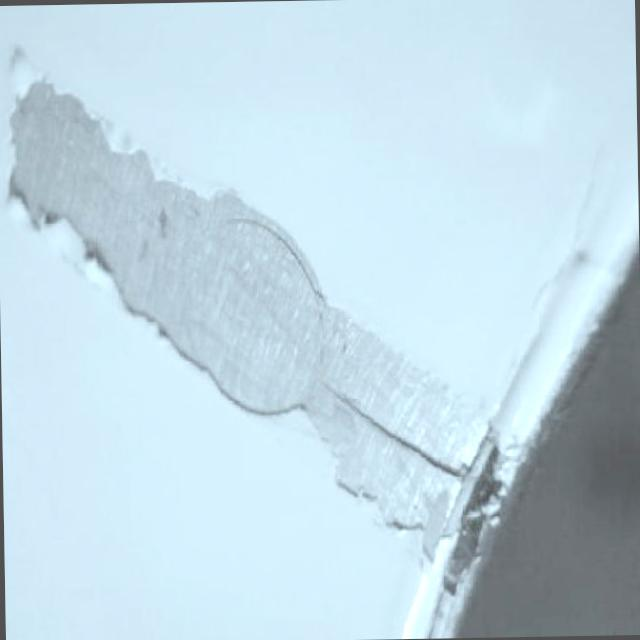crack: (388, 430, 464, 480), (322, 383, 388, 433)
